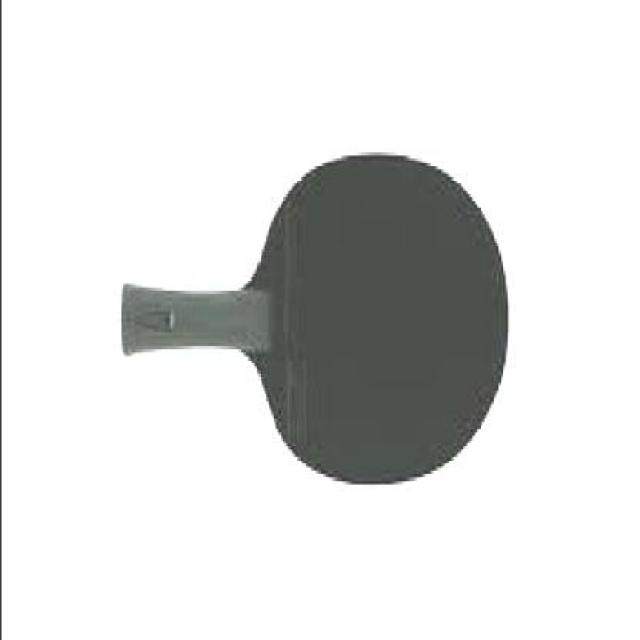table_tennis_racket: (238, 155, 514, 490)
